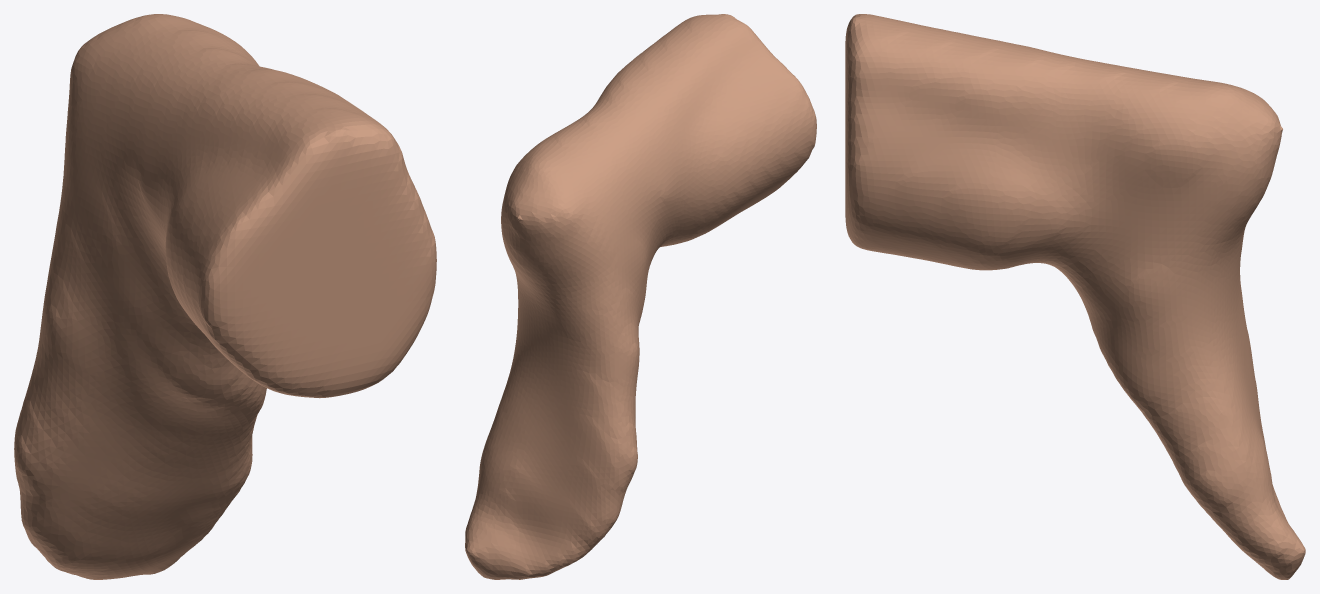
File: foot_skin.glb
3 views of the same model, side by side, from view 1: azimuth 30°, elevation 25°; view 2: azimuth 150°, elevation 25°; view 3: azimuth 270°, elevation 25° (orthographic). The views are drawn at different scales.
Visible parts, largest first — view 1: world; view 2: world; view 3: world.
Boxes of the visible parts, <box> form: world: <box>14,14,436,579</box>; world: <box>465,14,816,579</box>; world: <box>845,14,1305,579</box>.
Size of the model in its own units: 98.21 by 232 by 184.
